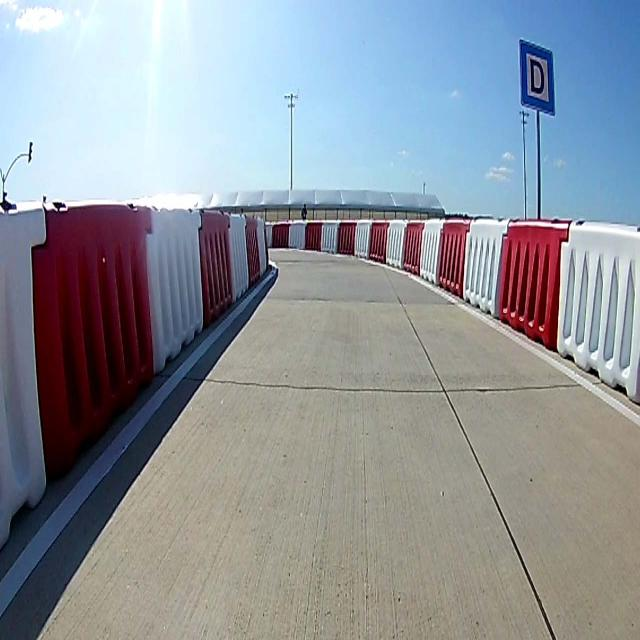durak: (520, 39, 554, 117)
